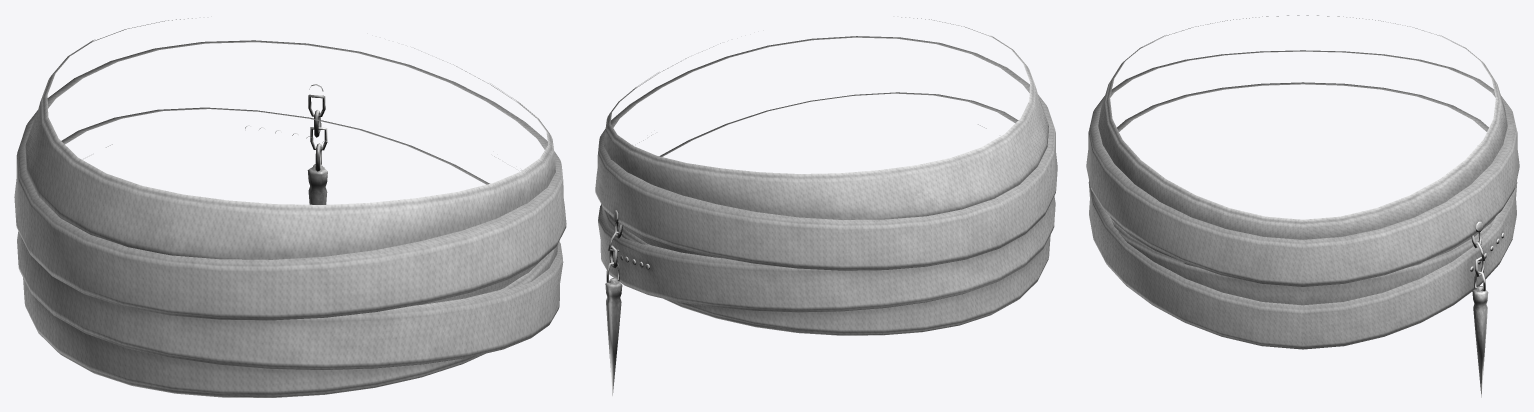
Rendered from 14-Face-Bandages-Blindfold-White-115599627815687.glb.
The picture shows the model from 3 angles, left to right: view 1: azimuth 30°, elevation 25°; view 2: azimuth 150°, elevation 25°; view 3: azimuth 270°, elevation 25°; orthographic projection. The views are drawn at different scales.
Parts seen in each view (by area): view 1: 14-Face-Bandages-Blindfold-White-115599627815687; view 2: 14-Face-Bandages-Blindfold-White-115599627815687; view 3: 14-Face-Bandages-Blindfold-White-115599627815687.
Part boxes in pixels (x1,y1,x2,y2): 14-Face-Bandages-Blindfold-White-115599627815687: (14, 18, 566, 397); 14-Face-Bandages-Blindfold-White-115599627815687: (595, 17, 1057, 395); 14-Face-Bandages-Blindfold-White-115599627815687: (1086, 15, 1519, 397).
Bounding box in the file's own units: 1.32 × 0.8475 × 1.32.
Materials: 1 (1 with a texture image).
